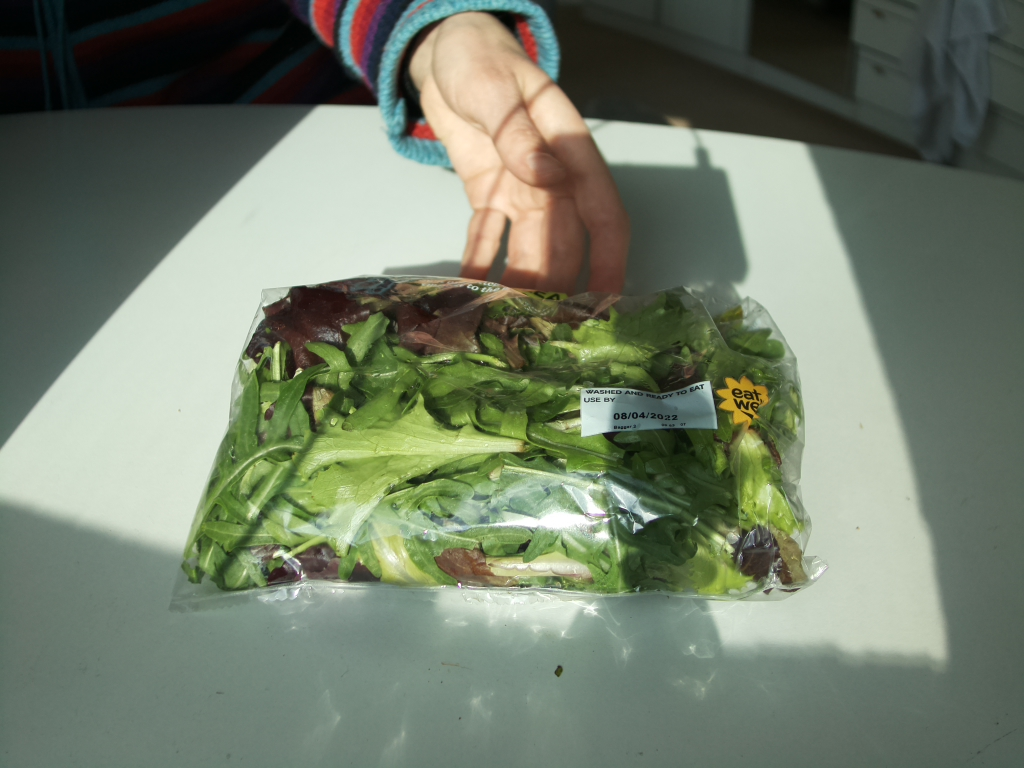salad: (163, 273, 817, 601)
